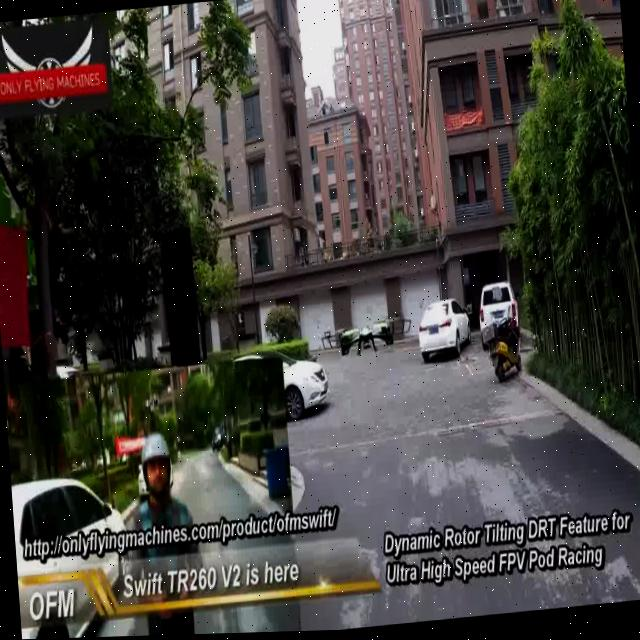drone: (317, 307, 417, 366)
